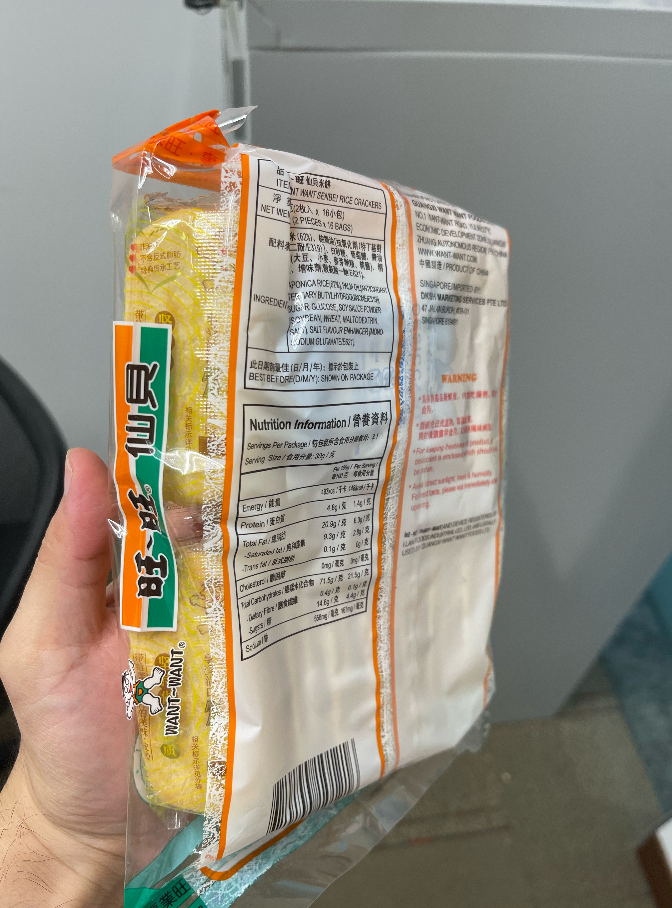crackers_1g-99g: (129, 154, 493, 815)
